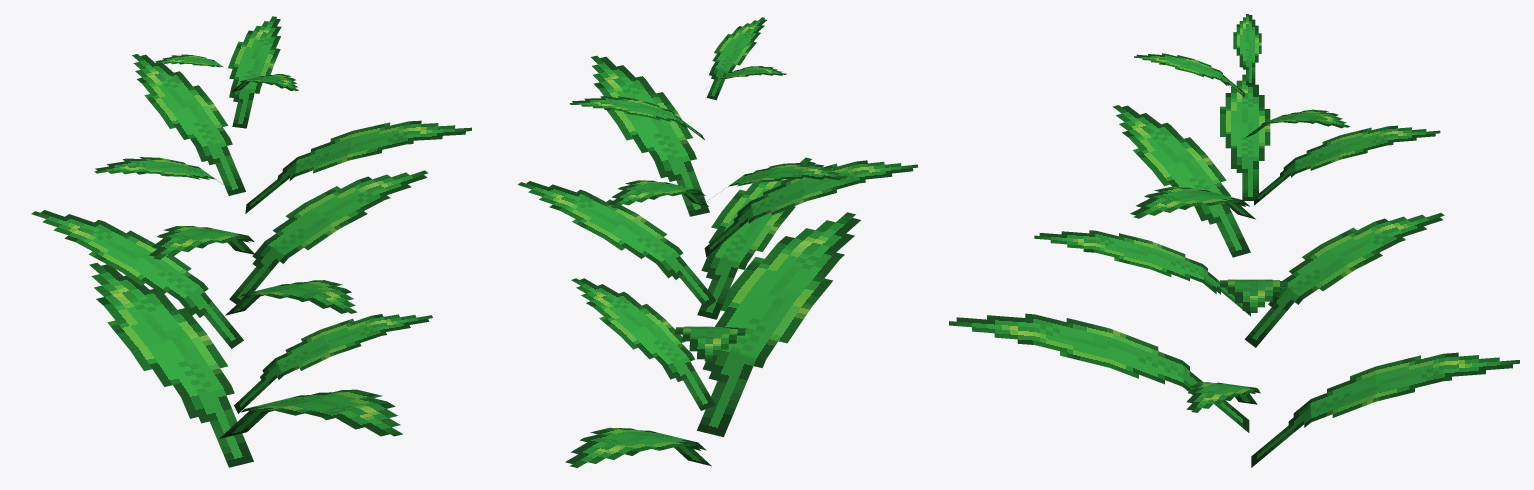
The model's file is grass.fbx.
3 views of the same model, side by side, from view 1: azimuth 30°, elevation 25°; view 2: azimuth 150°, elevation 25°; view 3: azimuth 270°, elevation 25° (orthographic). The views are drawn at different scales.
Visible parts, largest first — view 1: 平面; view 2: 平面; view 3: 平面.
Boxes of the visible parts, left/top/right/bottom form: 平面: left=31, top=16, right=471, bottom=467; 平面: left=518, top=17, right=918, bottom=467; 平面: left=949, top=14, right=1519, bottom=467.
Size of the model in its own units: 803 by 906 by 1151.
